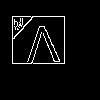V: (25, 25, 61, 73)
